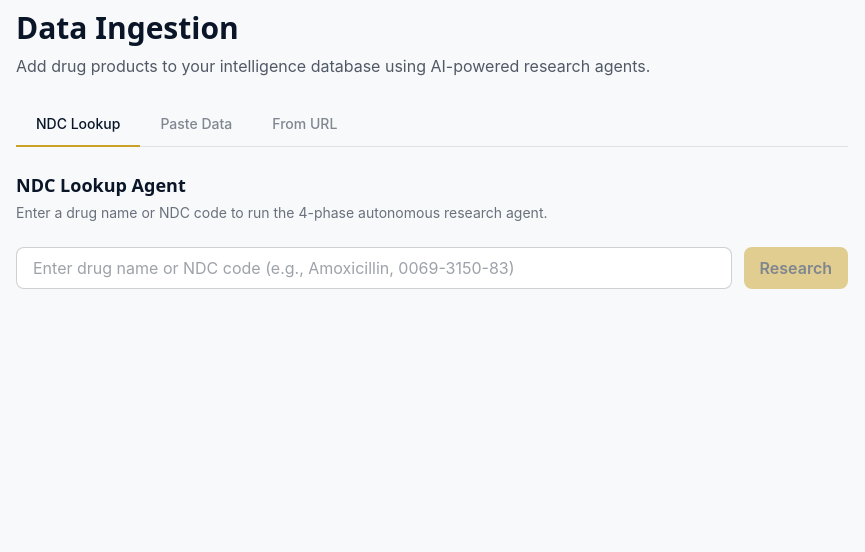
IngestionHub › switches to Paste Data tab on click
Click the tab with test id "tab-paste-data": (196, 124) [140, 102, 252, 146]
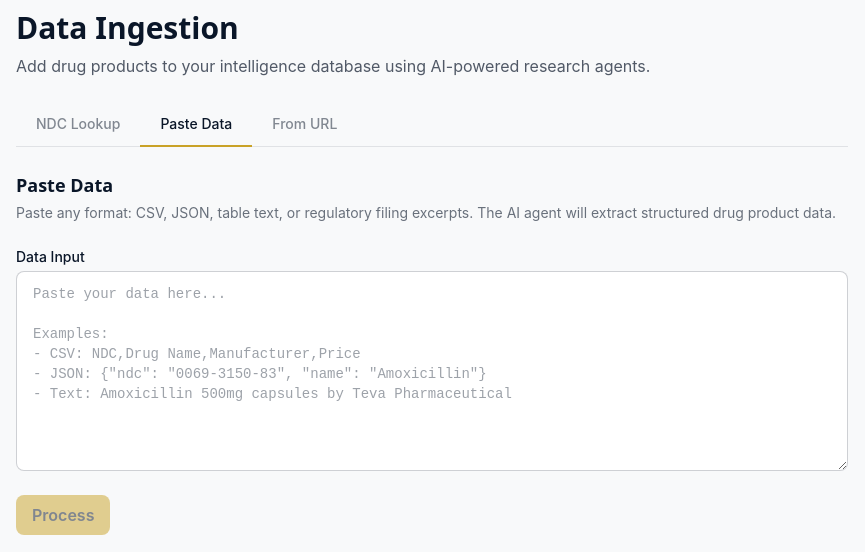
Expected: the heading "Paste Data" is shown, [16, 173, 113, 197]
Expected: the text box with test id "paste-textarea" is shown, [16, 271, 848, 471]
